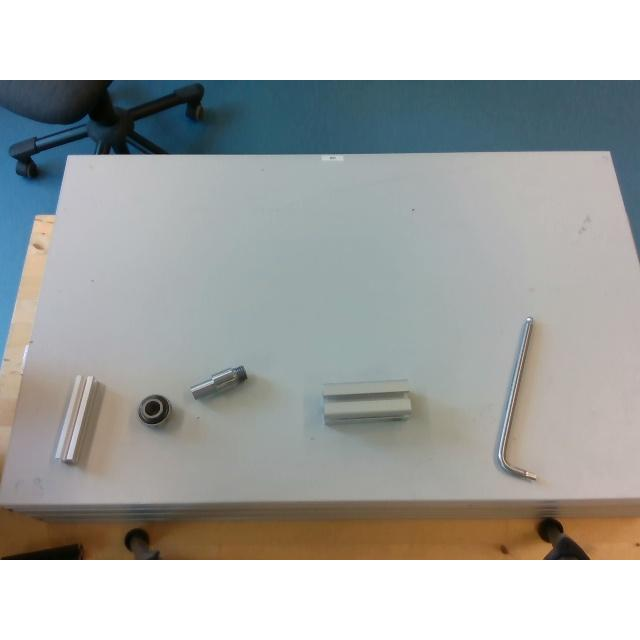AllenKey: (495, 314, 537, 480)
Axis2: (190, 365, 247, 399)
Bearing2: (138, 396, 170, 424)
F20_20_G: (54, 375, 94, 463)
S40_40_G: (323, 380, 411, 424)
